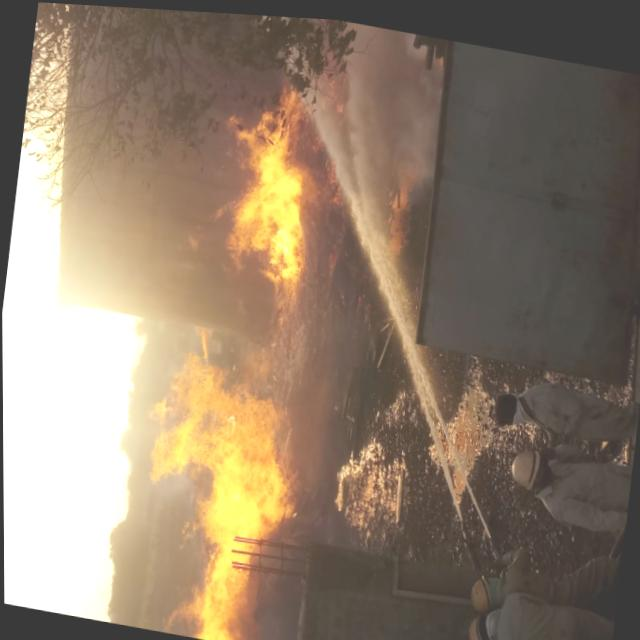Fire: (119, 315, 314, 640), (207, 73, 322, 287)
